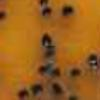black: (83, 48, 100, 69), (49, 79, 64, 99), (27, 82, 45, 98), (38, 31, 54, 48), (41, 47, 58, 62), (59, 3, 76, 17), (38, 62, 53, 77), (68, 65, 83, 80), (49, 65, 63, 79), (40, 5, 55, 18), (16, 87, 31, 100), (35, 0, 50, 8), (64, 93, 81, 100), (0, 8, 7, 21)
